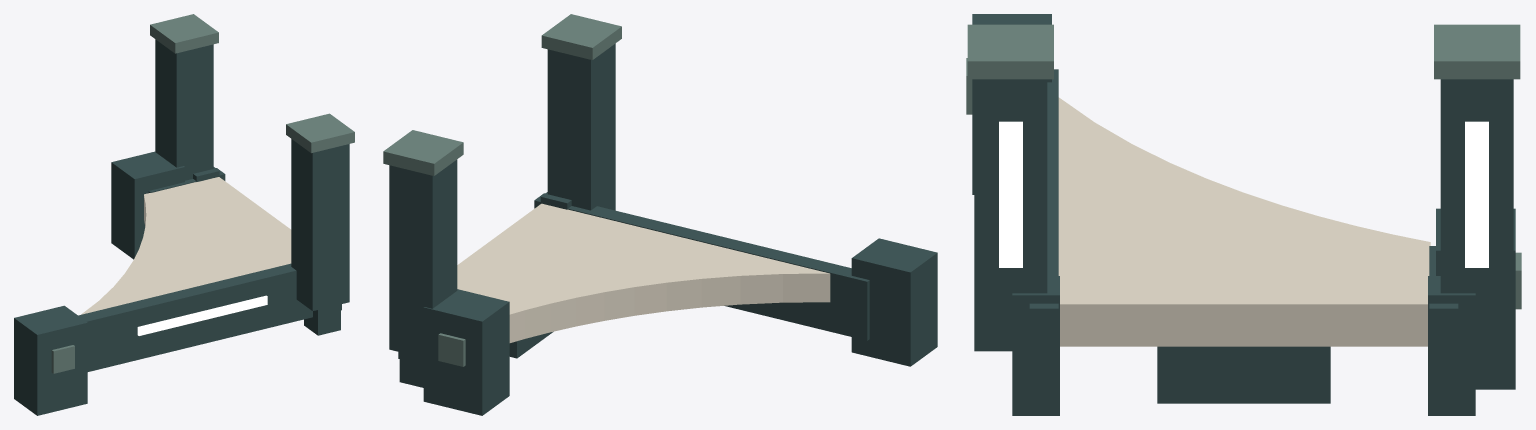
File: Pier_Angled_40_Switch_lab.glb
3 renders of one model, left to right at view 1: azimuth 30°, elevation 25°; view 2: azimuth 150°, elevation 25°; view 3: azimuth 270°, elevation 25°, orthographic. The views are drawn at different scales.
Parts seen in each view (by area): view 1: Pier_Angled_40_Switch; view 2: Pier_Angled_40_Switch; view 3: Pier_Angled_40_Switch.
Boxes of the visible parts, left/top/right/bottom form: Pier_Angled_40_Switch: left=14, top=14, right=354, bottom=415; Pier_Angled_40_Switch: left=383, top=14, right=937, bottom=415; Pier_Angled_40_Switch: left=966, top=14, right=1521, bottom=415.
Size of the model in its own units: 4.77 by 2.95 by 4.17.
